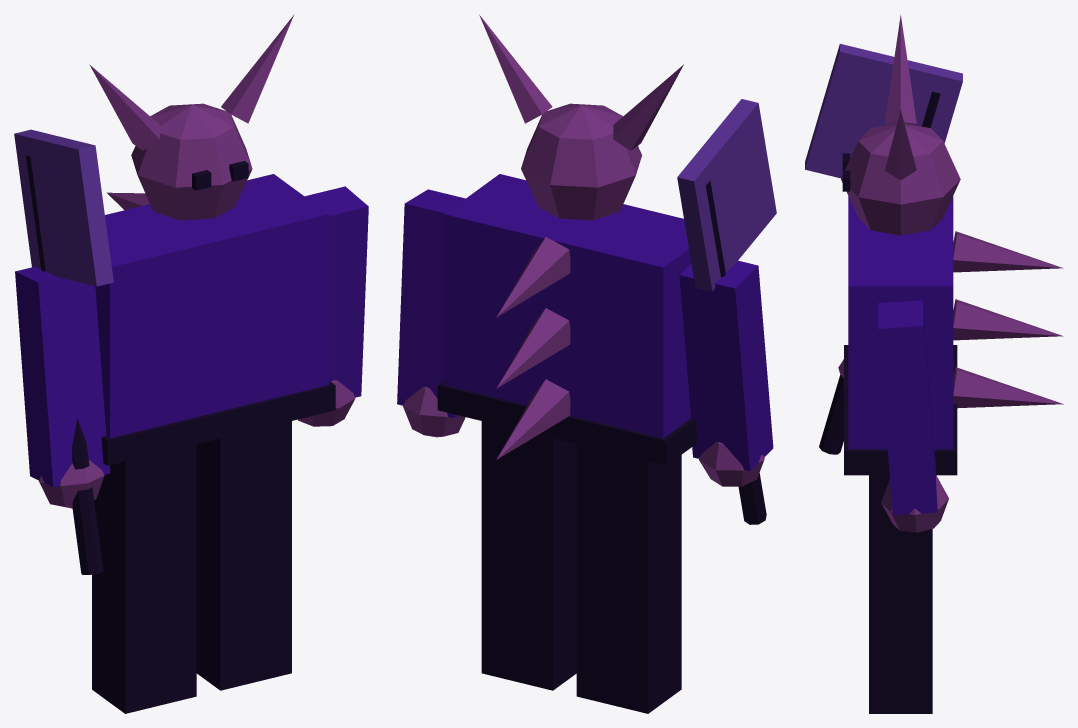
File: SM_Champion_9029_Kryx.glb
3 views of the same model, side by side, from view 1: azimuth 30°, elevation 25°; view 2: azimuth 150°, elevation 25°; view 3: azimuth 270°, elevation 25° (orthographic). The views are drawn at different scales.
Visible parts, largest first — view 1: SM_Champion_9029_Kryx; view 2: SM_Champion_9029_Kryx; view 3: SM_Champion_9029_Kryx.
Part boxes in pixels (x1,y1,x2,y2): SM_Champion_9029_Kryx: (14, 14, 368, 713); SM_Champion_9029_Kryx: (397, 14, 776, 713); SM_Champion_9029_Kryx: (805, 14, 1063, 713).
Bounding box in the file's own units: 1.16 × 2.12 × 0.8126.
